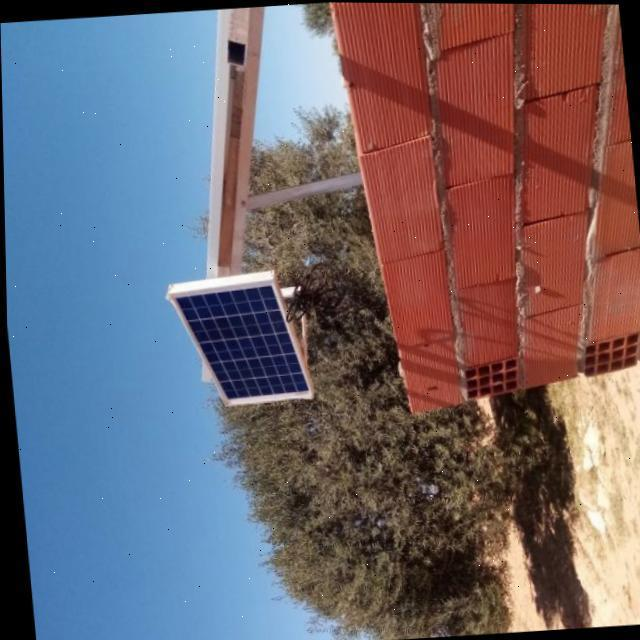Normal Solar Panel: (167, 276, 310, 408)
